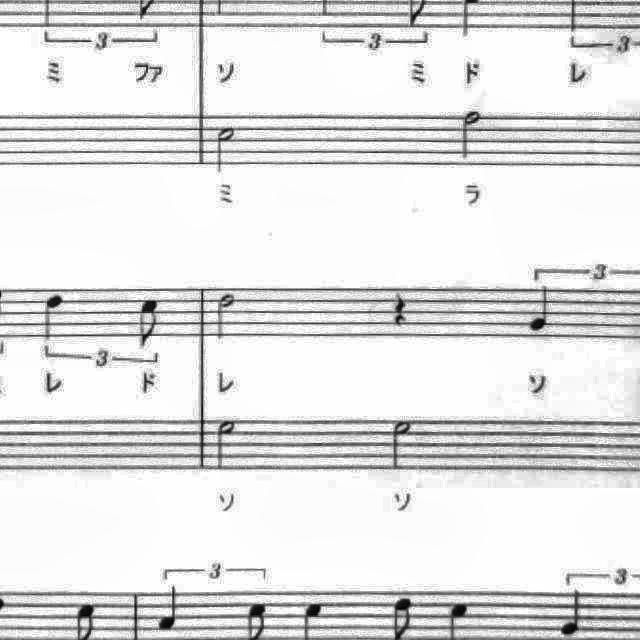Eighth-note: (132, 291, 168, 351)
Half-note: (383, 415, 419, 477), (208, 118, 244, 178), (454, 104, 486, 166), (210, 415, 242, 477), (210, 288, 240, 346)
Quarter-note: (553, 583, 599, 639), (522, 281, 558, 339), (36, 288, 70, 346), (152, 582, 188, 634)
Quarter-rest: (387, 282, 417, 330)
